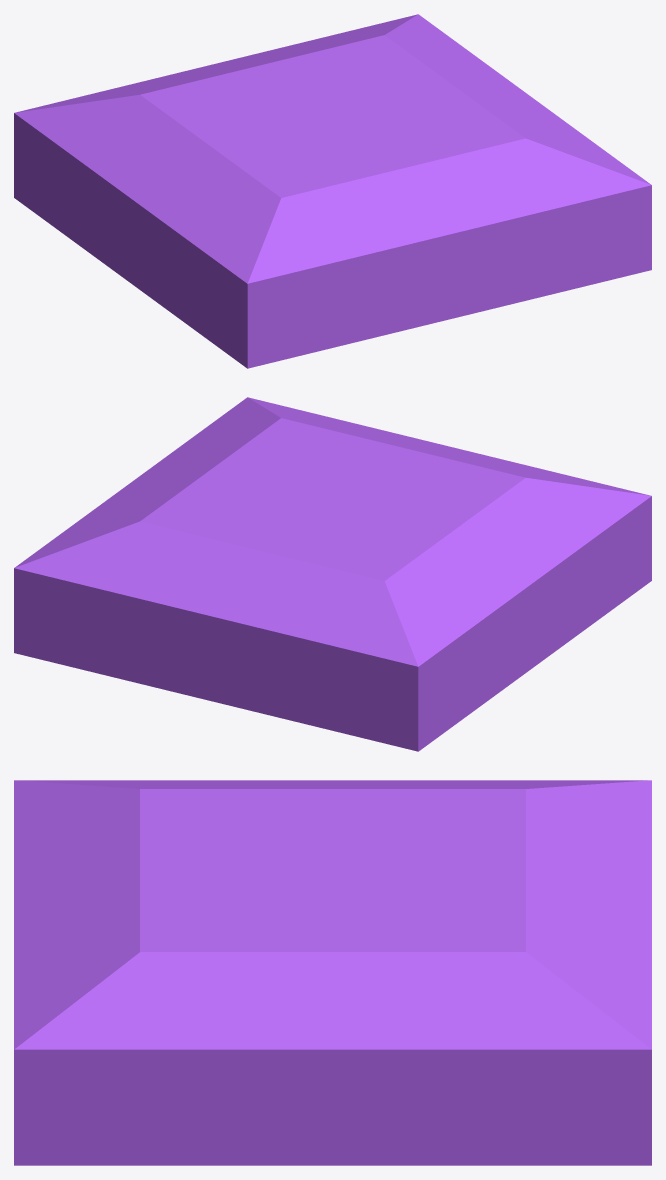
Rendered from squaregem.fbx.
The picture shows the model from 3 angles, top to bottom: view 1: azimuth 30°, elevation 25°; view 2: azimuth 150°, elevation 25°; view 3: azimuth 270°, elevation 25°; orthographic projection. The views are drawn at different scales.
Visible parts, largest first — view 1: Gem.005; view 2: Gem.005; view 3: Gem.005.
Boxes of the visible parts, left/top/right/bottom form: Gem.005: left=14, top=14, right=651, bottom=368; Gem.005: left=14, top=397, right=651, bottom=751; Gem.005: left=14, top=780, right=651, bottom=1165.
Size of the model in its own units: 142 by 39.44 by 142.
